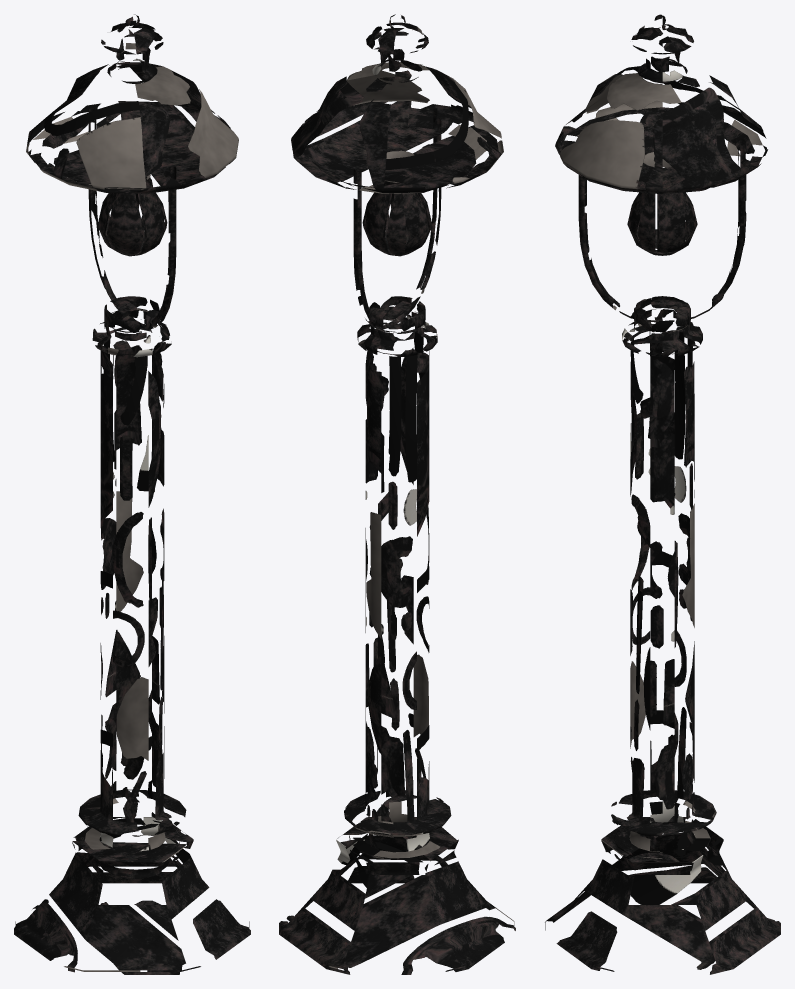
File: lamp.fbx
3 renders of one model, left to right at view 1: azimuth 30°, elevation 25°; view 2: azimuth 150°, elevation 25°; view 3: azimuth 270°, elevation 25°, orthographic.
Parts seen in each view (by area): view 1: lamp; view 2: lamp; view 3: lamp.
Boxes of the visible parts, x1,y1,x2,y2 form: lamp: [14, 14, 250, 974]; lamp: [279, 14, 515, 974]; lamp: [545, 14, 780, 974].
Size of the model in its own units: 28.89 by 133 by 31.26.
Materials: 1 (1 with a texture image).
